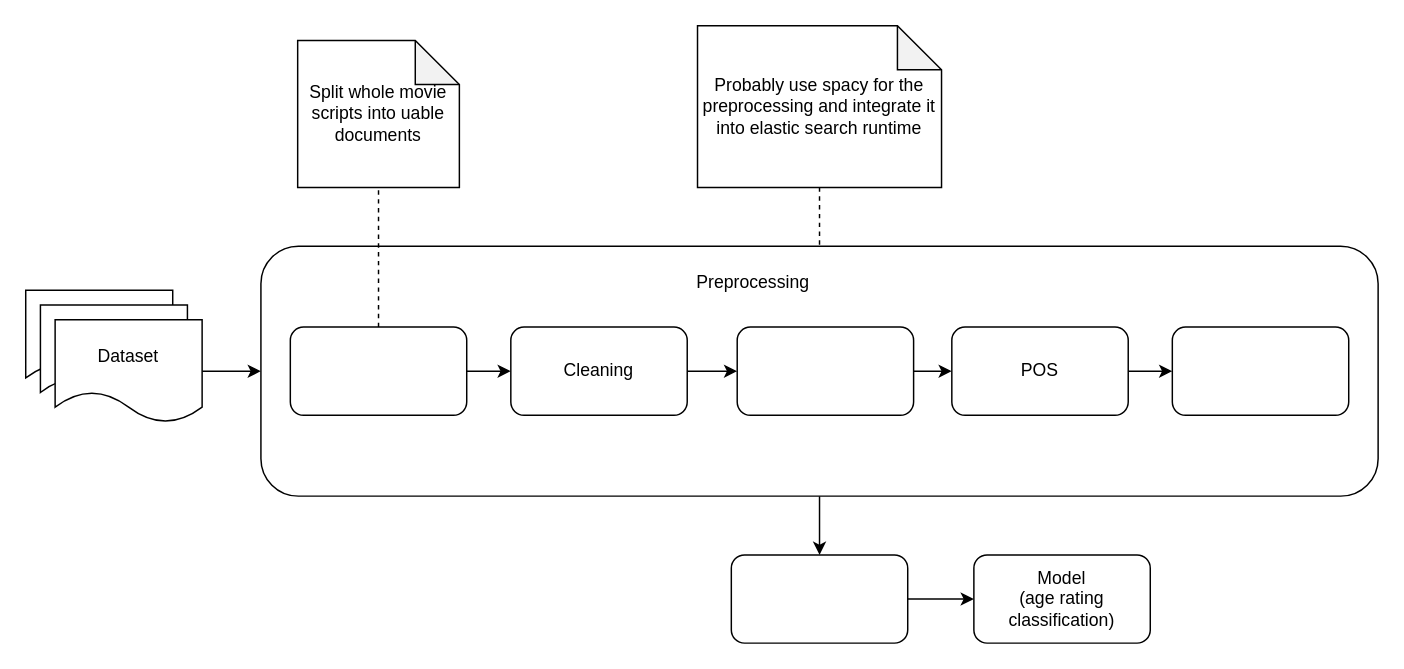
Image size: 1404x669. Some labels were removed from this diagram. The shapes that lost their labels are listed below. From the top down, each one's centre as x and y in pixels, then its label:
At [378,370]: "Document splitting".
At [825,370]: "Tokenisation".
At [1260,370]: "Lemmatization".
At [819,598]: "Processing".
